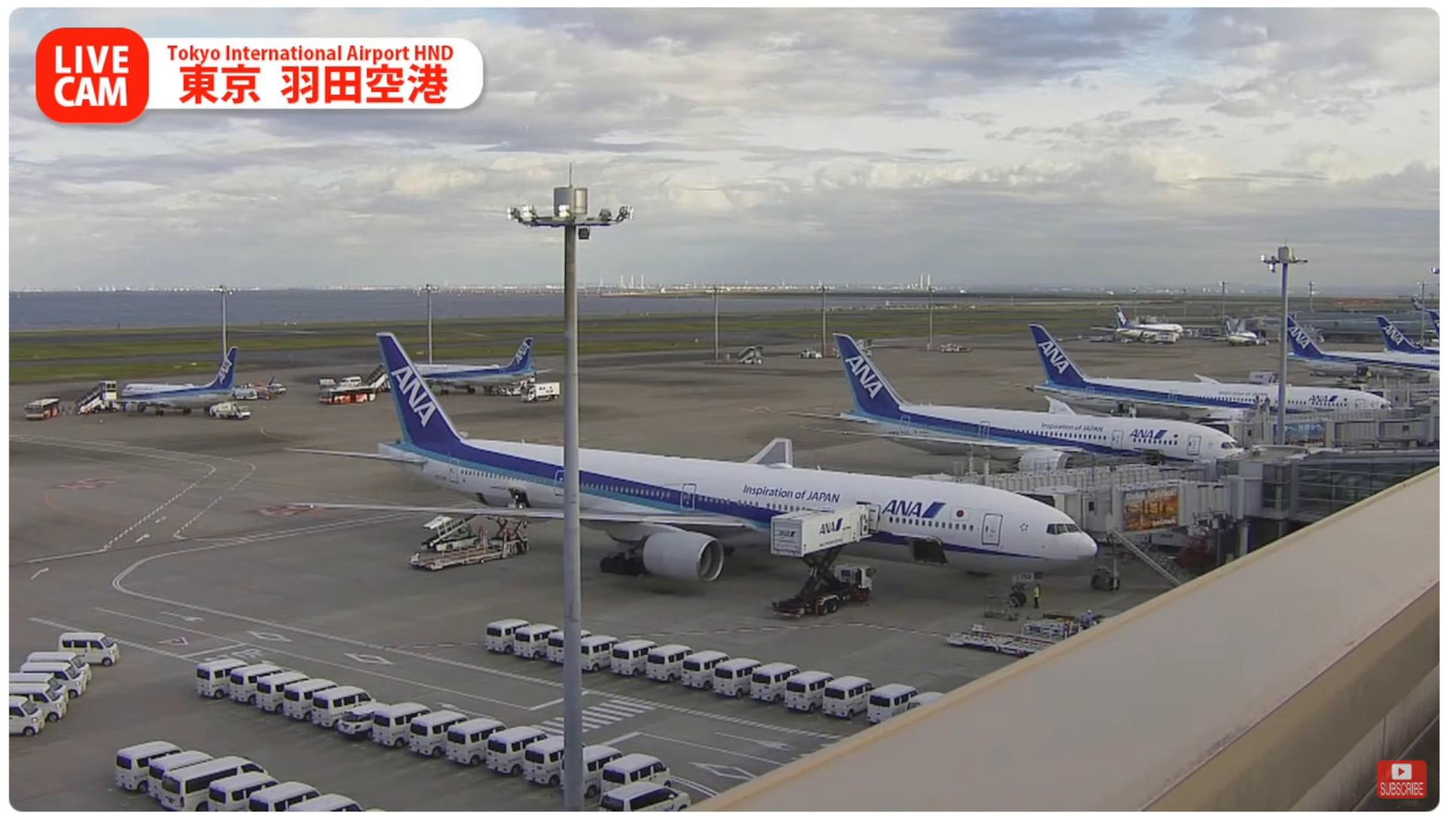Aerobridge: (937, 438, 1217, 490), (1025, 480, 1229, 535)
Airplane: (279, 328, 1099, 610)
Catering: (769, 505, 876, 620)
JCPL: (402, 511, 533, 572), (941, 626, 1064, 652)
Skyloader: (417, 513, 486, 554)
Window: (1286, 455, 1435, 523)
